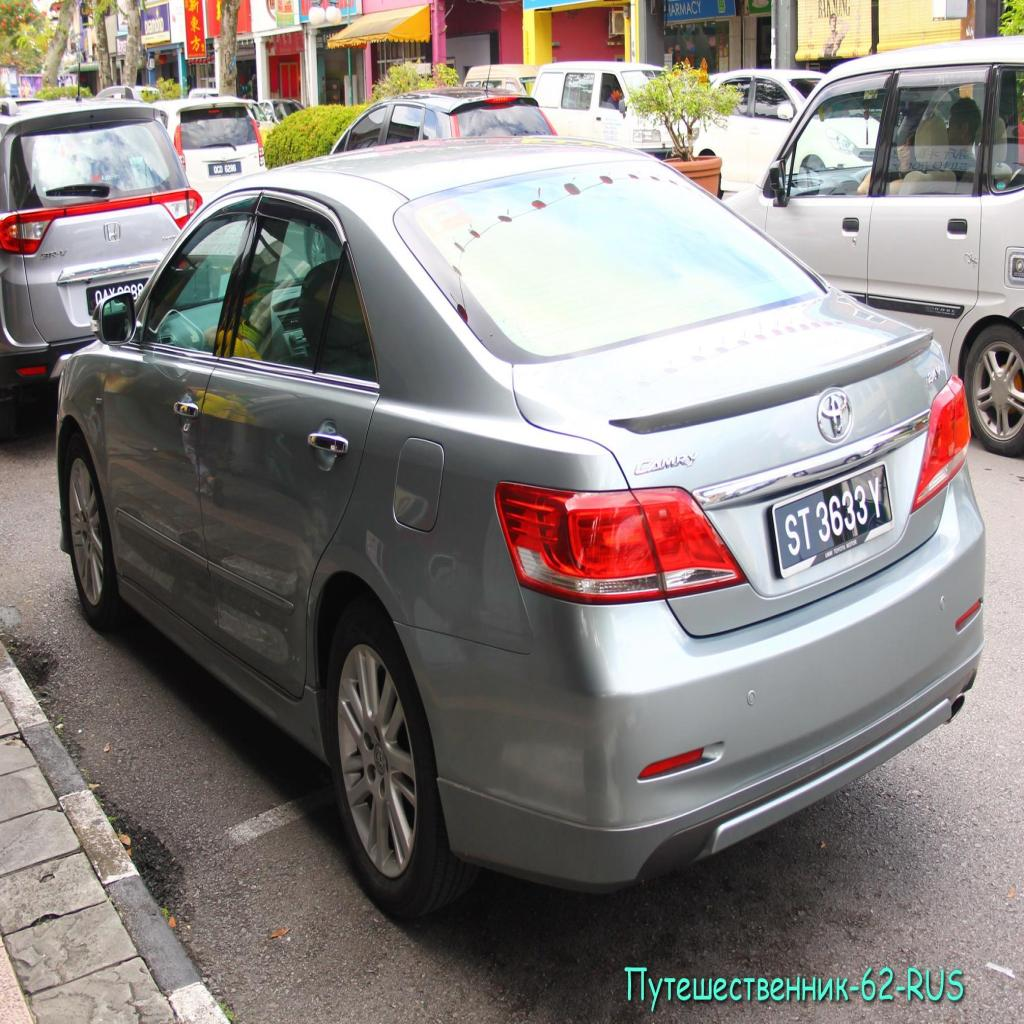car: (57, 137, 984, 914)
car plate: (772, 463, 892, 577)
